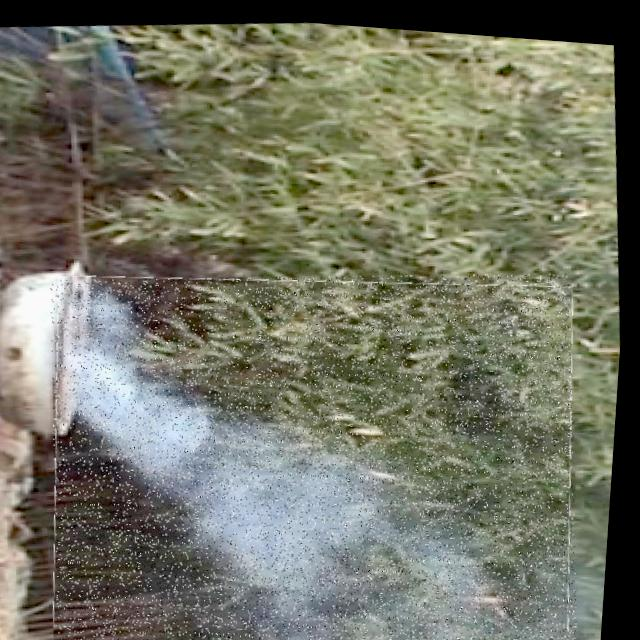Smoke: (33, 233, 605, 640)
